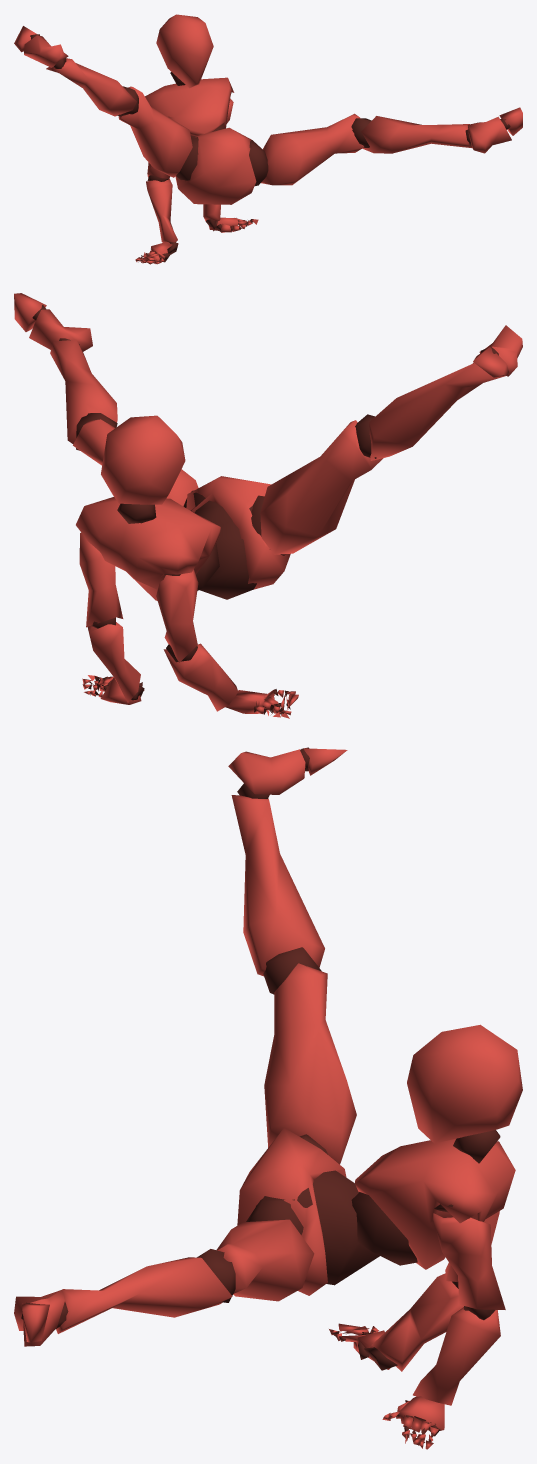
3 renders of one model, top to bottom at view 1: azimuth 30°, elevation 25°; view 2: azimuth 150°, elevation 25°; view 3: azimuth 270°, elevation 25°, orthographic. The views are drawn at different scales.
Parts seen in each view (by area): view 1: Beta_Surface; view 2: Beta_Surface; view 3: Beta_Surface.
Part boxes in pixels (x1,y1,x2,y2): Beta_Surface: (14,14,522,264); Beta_Surface: (14,293,522,718); Beta_Surface: (14,747,522,1449).
Size of the model in its own units: 19.14 by 11.97 by 11.25.
